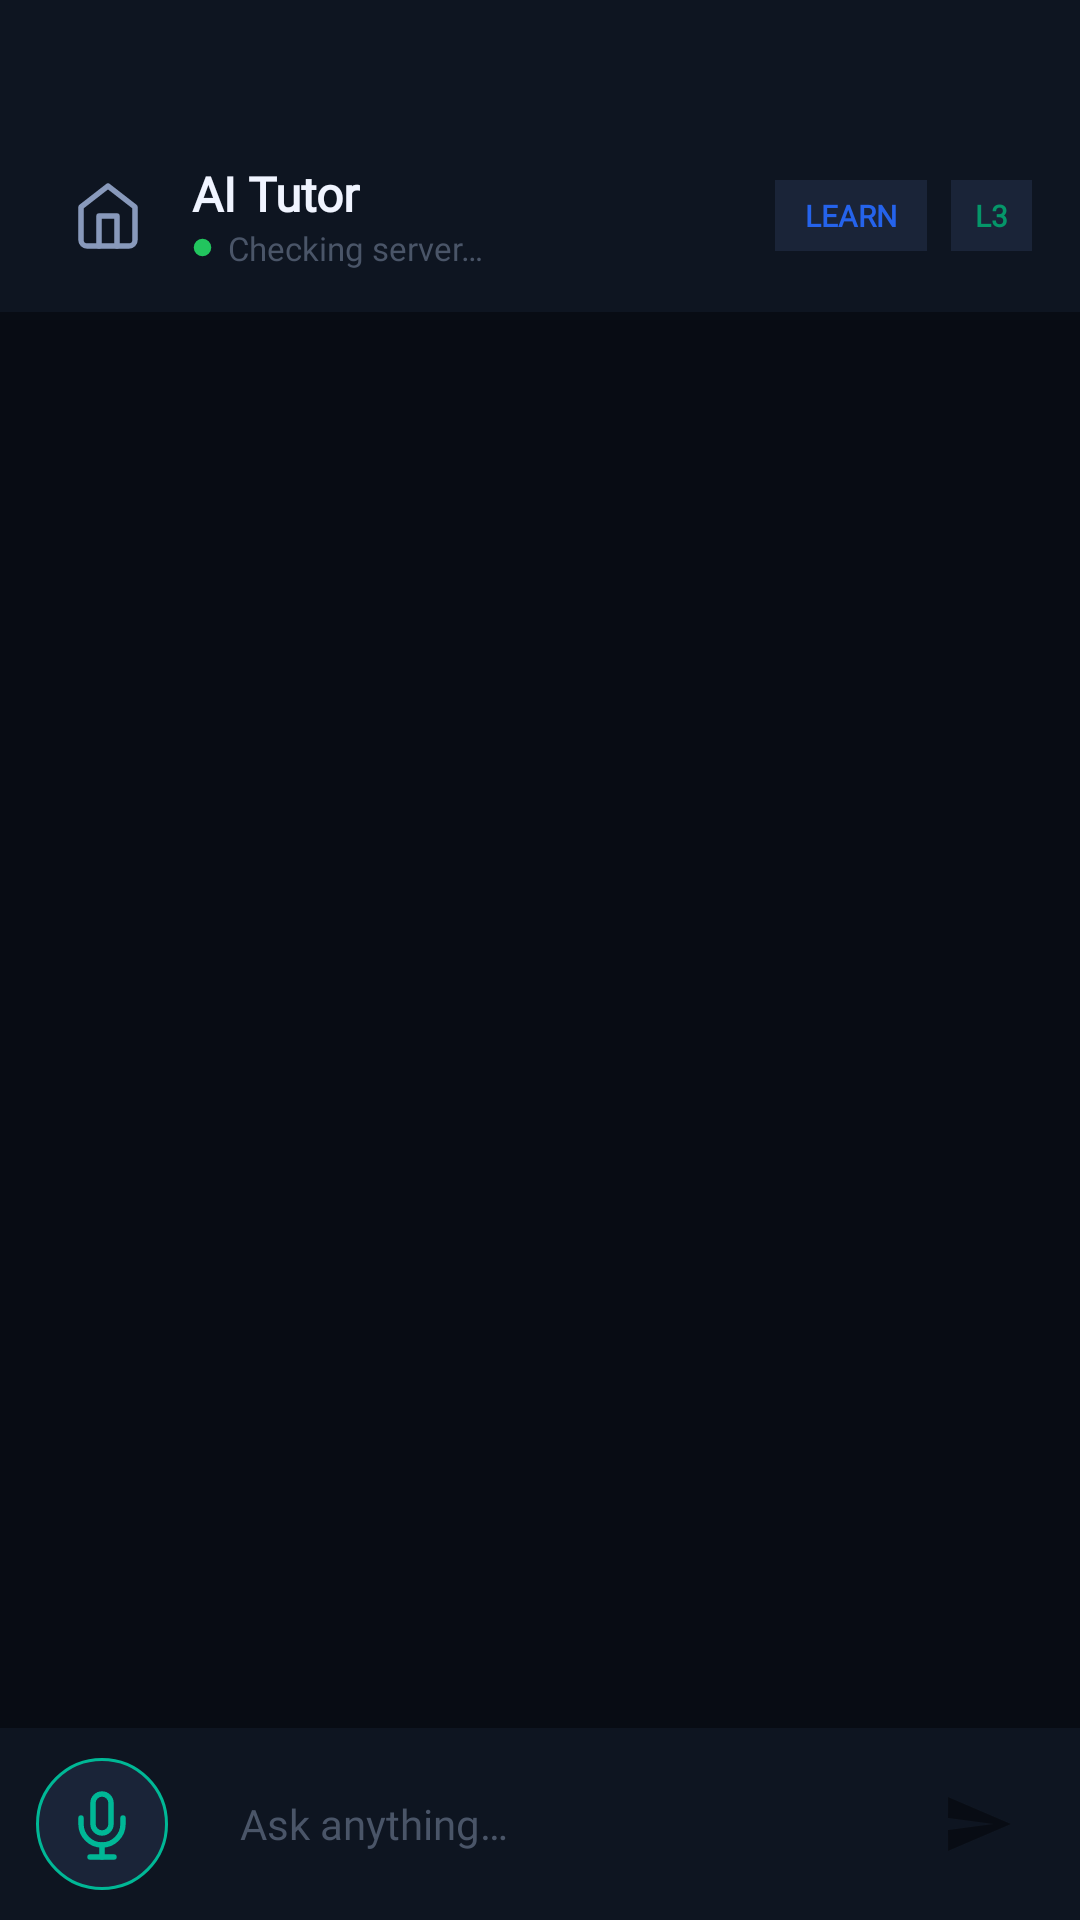

Named icons in this screenshot (1080px×1920px) and their centers, (x=x, y=y):
Voice input: (x=102, y=1824)
